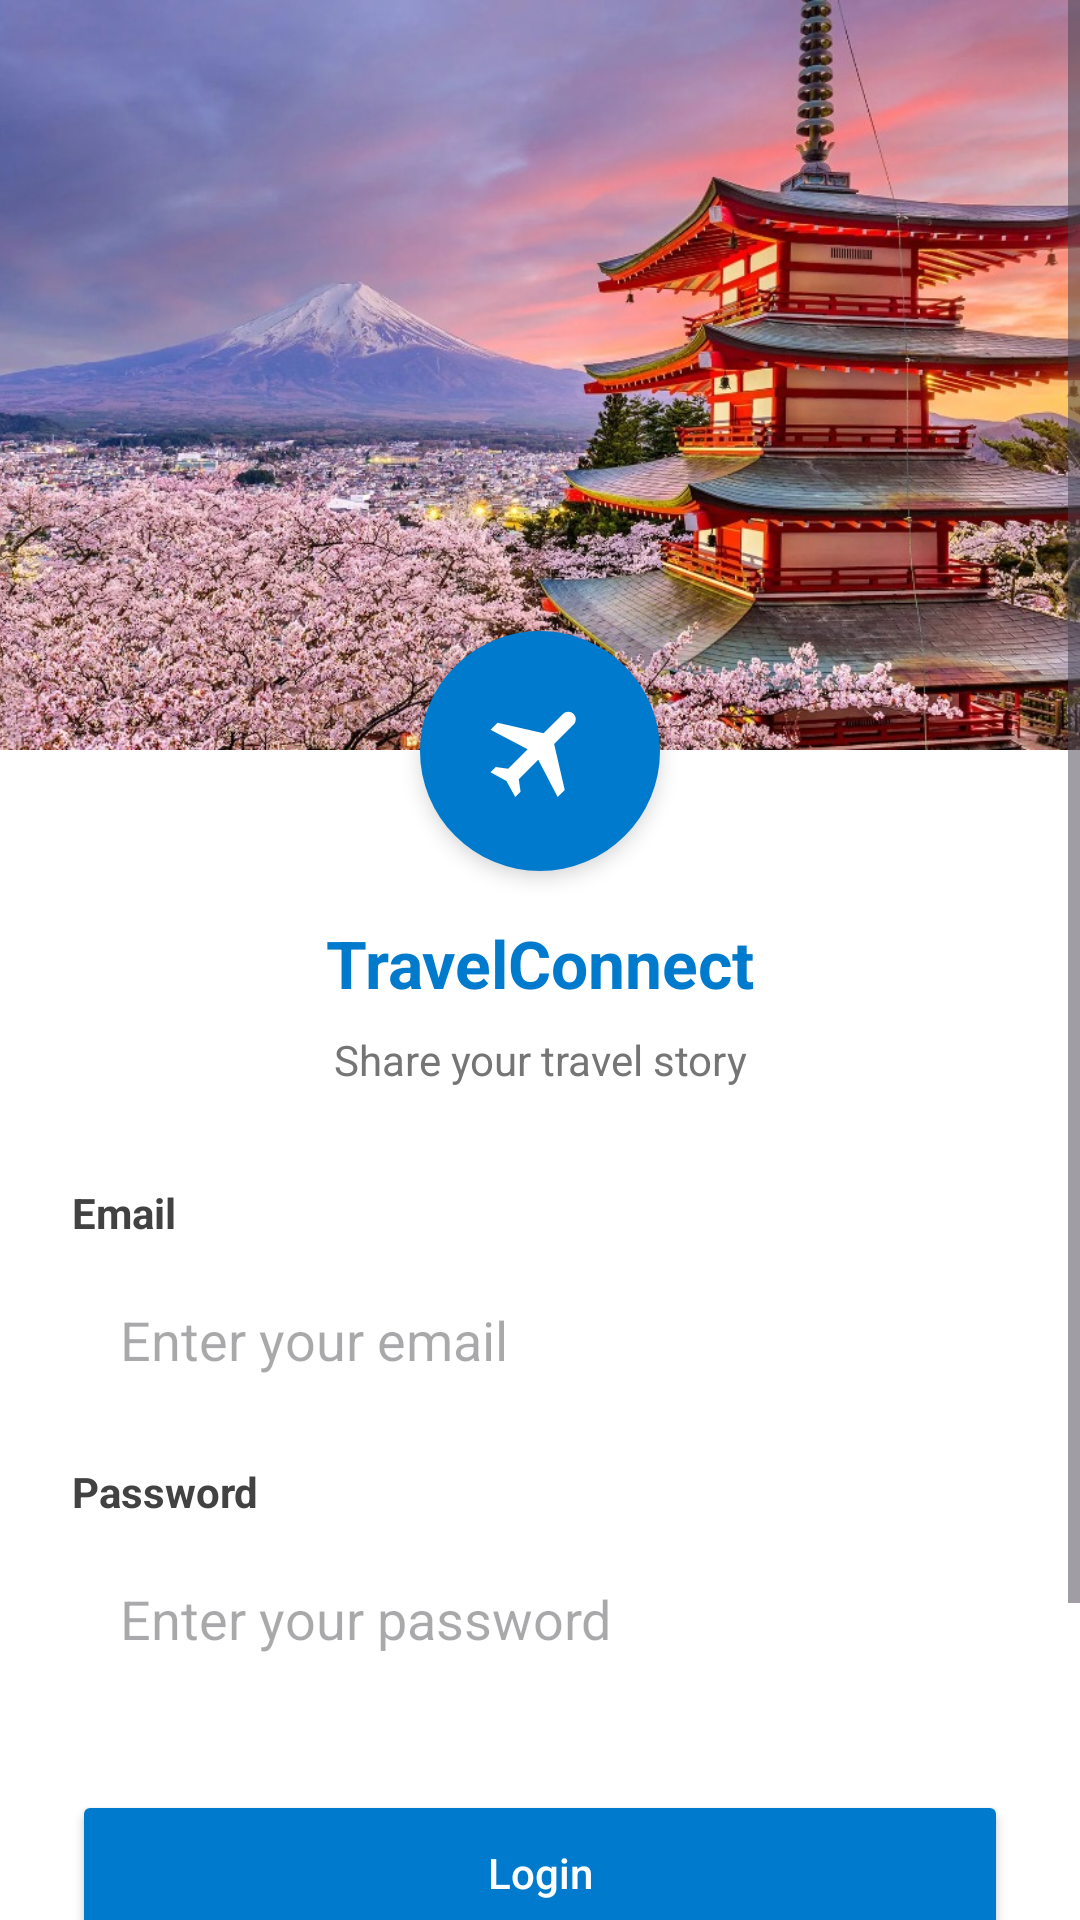

Icons on this 1080×1920 Android screen, each with the point to tap as point (x, y):
airplane: point (540, 751)
